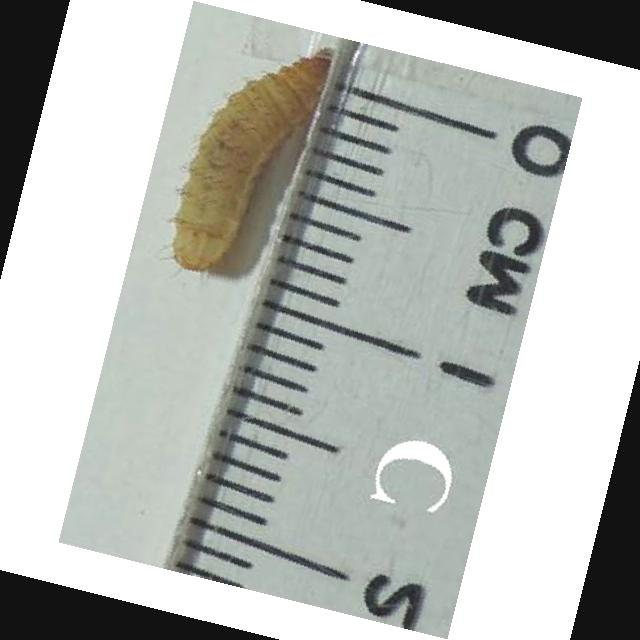Maggot: (169, 43, 340, 273)
